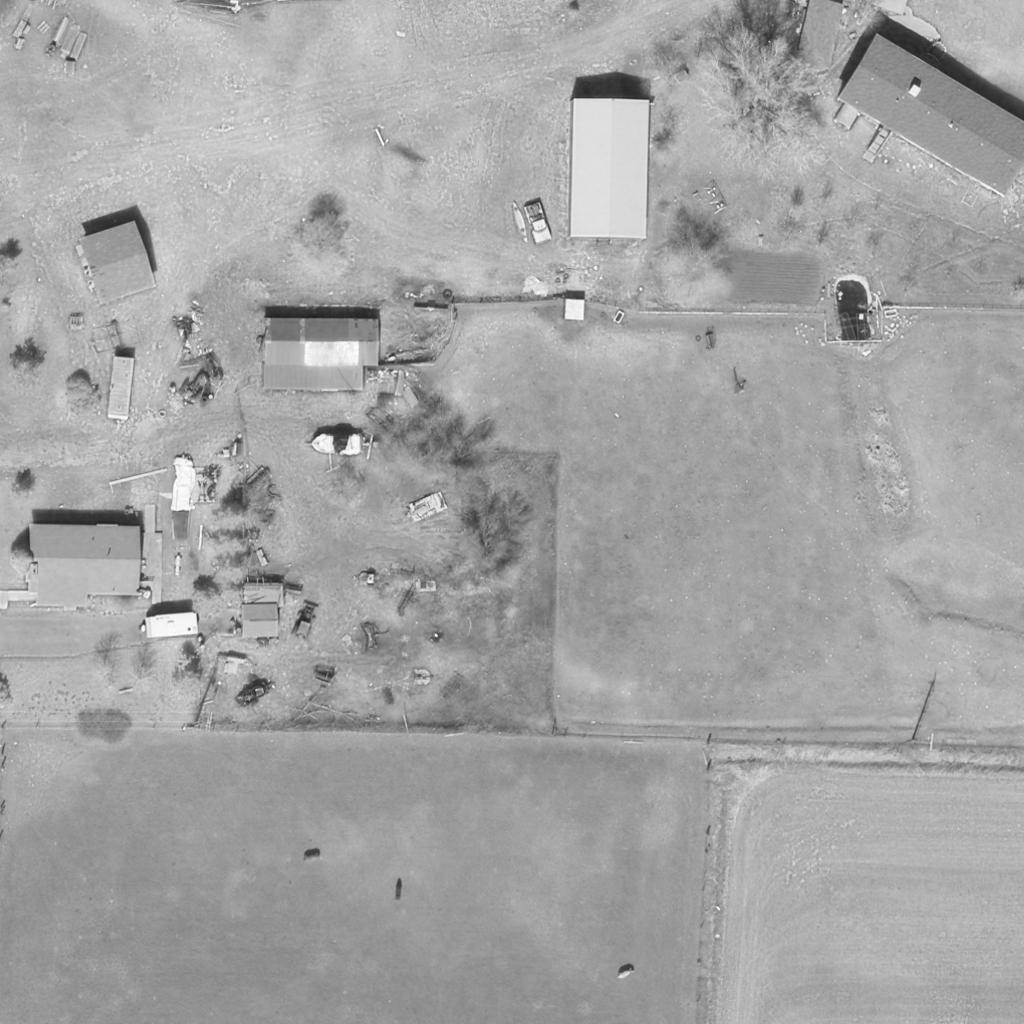vehicle: (109, 355, 135, 419), (302, 432, 370, 456), (142, 614, 200, 638), (290, 598, 320, 640), (526, 204, 552, 246), (511, 201, 531, 245)
